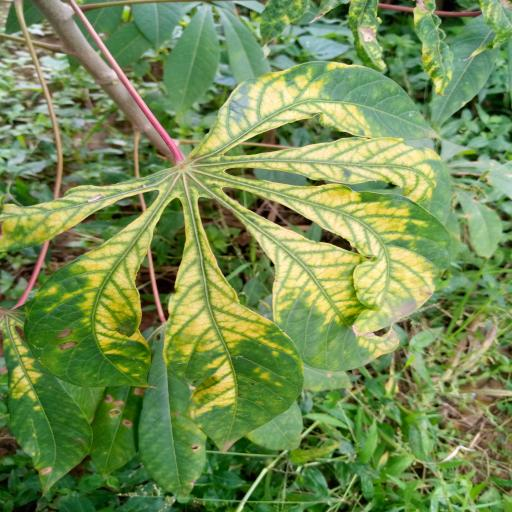Cassava_Mosaic: (0, 59, 468, 454)
